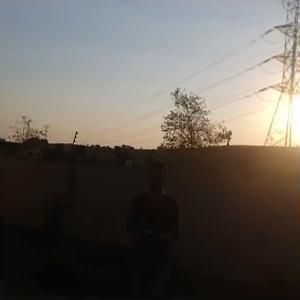follow: (123, 155, 184, 299)
